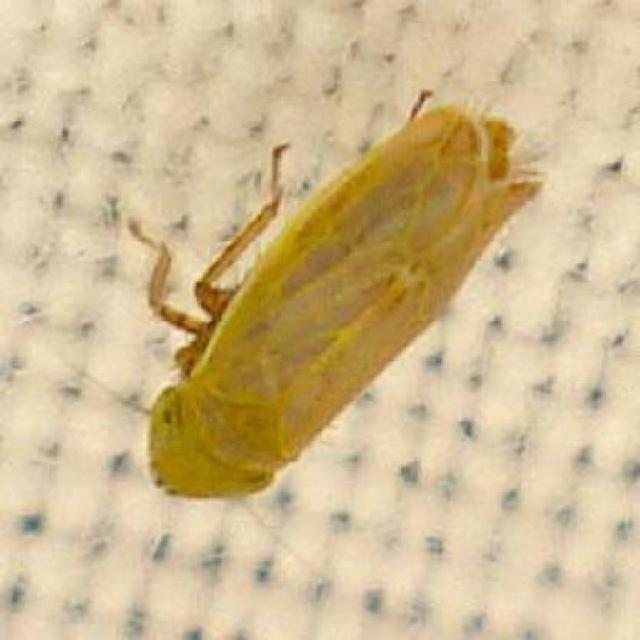green-leafhopper: (131, 97, 534, 501)
